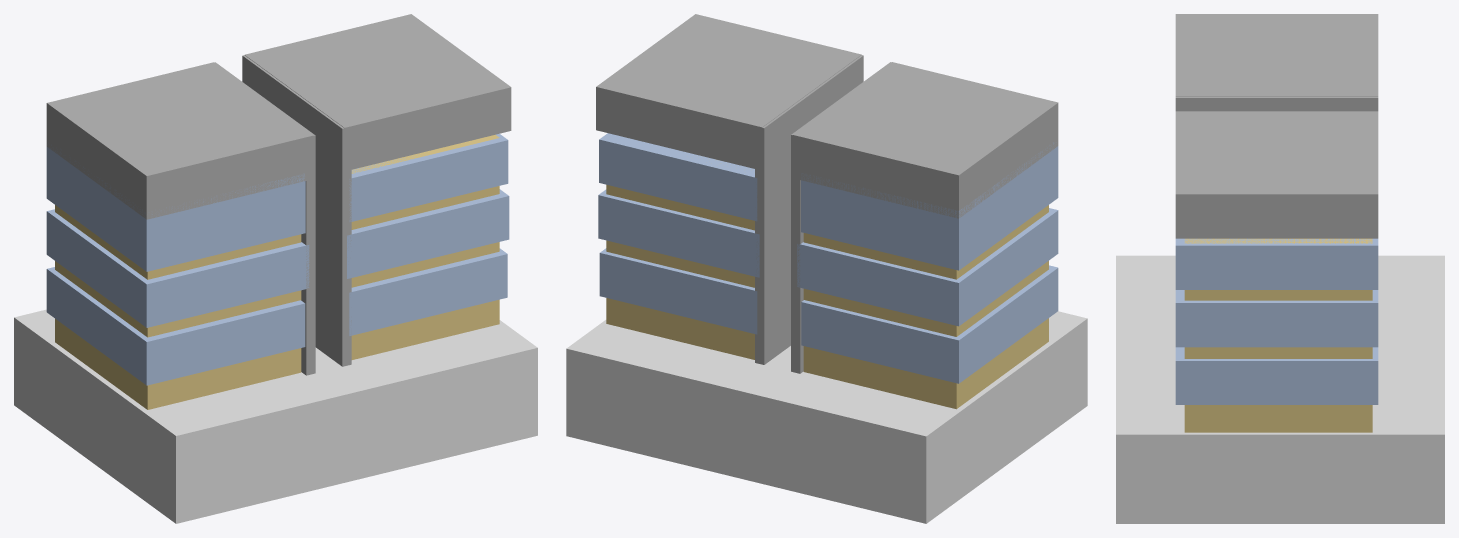
The model's file is deposit_gate_material.glb.
3 renders of one model, left to right at view 1: azimuth 30°, elevation 25°; view 2: azimuth 150°, elevation 25°; view 3: azimuth 270°, elevation 25°, orthographic.
Visible parts, largest first — view 1: Cube, Cube.003, Cube.010, Cube.011, Cube.002, Cube.001, Cube.004, Cube.009, Cube.006, Cube.005, Cube.007, Cube.012 (+1 smaller); view 2: Cube, Cube.003, Cube.010, Cube.011, Cube.002, Cube.001, Cube.004, Cube.009, Cube.005, Cube.006, Cube.007, Cube.012 (+1 smaller); view 3: Cube, Cube.010, Cube.003, Cube.012, Cube.005, Cube.006, Cube.007, Cube.008.
Boxes of the visible parts, x1,y1,x2,y2 form: Cube: (14, 309, 537, 523); Cube.003: (46, 62, 313, 219); Cube.010: (245, 14, 511, 169); Cube.011: (46, 145, 305, 271); Cube.002: (46, 209, 309, 327); Cube.001: (46, 267, 305, 385); Cube.004: (55, 205, 301, 409); Cube.009: (242, 55, 351, 366); Cube.006: (347, 189, 509, 278); Cube.005: (349, 133, 508, 221); Cube.007: (349, 248, 507, 335); Cube.012: (351, 134, 499, 359); Cube: (566, 311, 1087, 523); Cube.003: (792, 62, 1058, 218); Cube.010: (596, 14, 861, 168); Cube.011: (801, 142, 1058, 270); Cube.002: (797, 208, 1058, 326); Cube.001: (801, 265, 1058, 383); Cube.004: (803, 205, 1048, 409); Cube.009: (755, 55, 863, 364); Cube.005: (599, 133, 757, 221); Cube.006: (598, 189, 759, 277); Cube.007: (599, 248, 757, 334); Cube.012: (606, 184, 754, 359); Cube: (1116, 255, 1444, 523); Cube.010: (1175, 112, 1378, 238); Cube.003: (1175, 14, 1378, 96); Cube.012: (1184, 238, 1372, 432); Cube.005: (1175, 238, 1378, 289); Cube.006: (1175, 290, 1378, 347); Cube.007: (1175, 347, 1378, 404); Cube.008: (1175, 97, 1378, 111).
Bounding box in the file's own units: 5.4 × 4.62 × 4.16.
